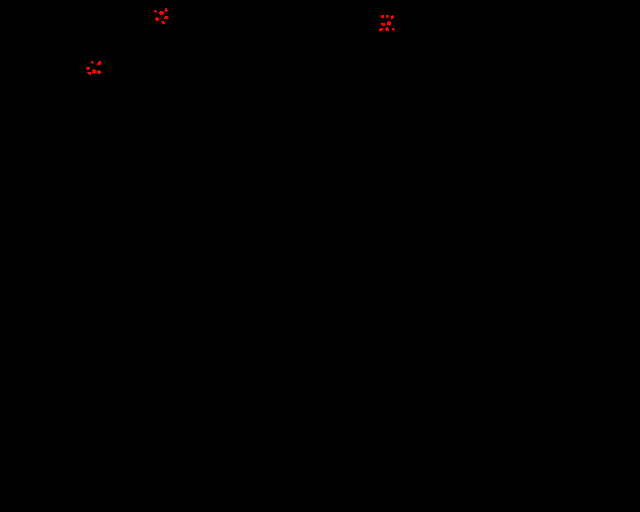Target: (159, 11, 164, 15), (387, 21, 391, 26), (92, 69, 96, 74), (155, 17, 159, 21), (385, 27, 389, 31), (97, 61, 101, 65), (97, 70, 101, 74), (165, 8, 168, 12), (391, 15, 394, 19), (164, 16, 168, 19), (161, 21, 165, 24), (381, 23, 385, 26), (379, 28, 383, 31), (86, 67, 90, 70), (87, 72, 91, 75), (154, 10, 157, 13), (381, 15, 384, 18), (386, 15, 389, 18), (392, 28, 395, 31), (91, 61, 94, 64)
